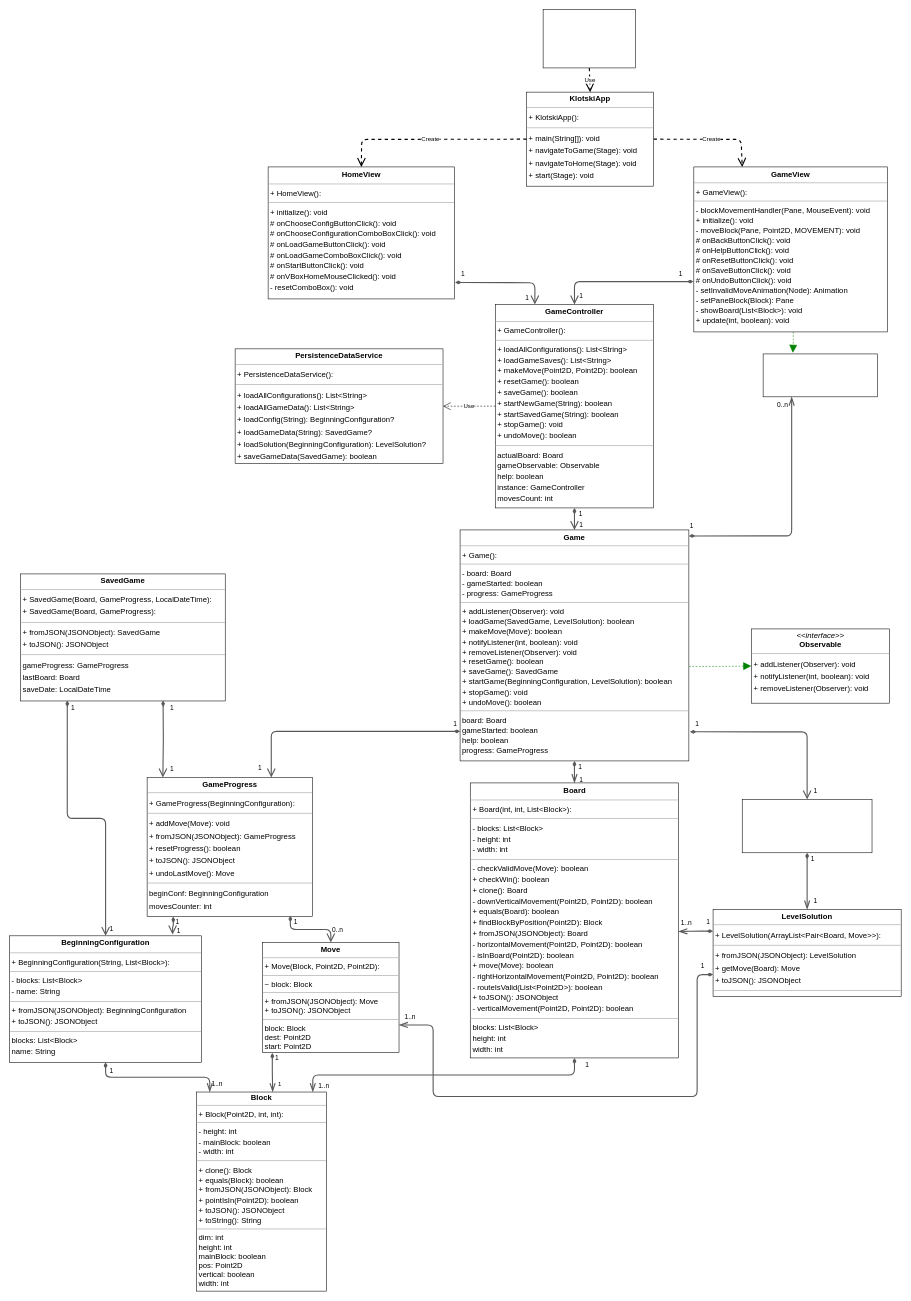
This 911x1301 diagram has some shape labels left out. Here are the shapes that lost their labels. From the top down, the centre of each, then its label:
At [589,38]: "Launcher + Launcher(): + main(String[]): void".
At [820,375]: "<<interface>> Observer + update(int, boolean): void".
At [807,826]: "NextBestMove + NextBestMove(LevelSolution): + suggestMove(Board): Move".
